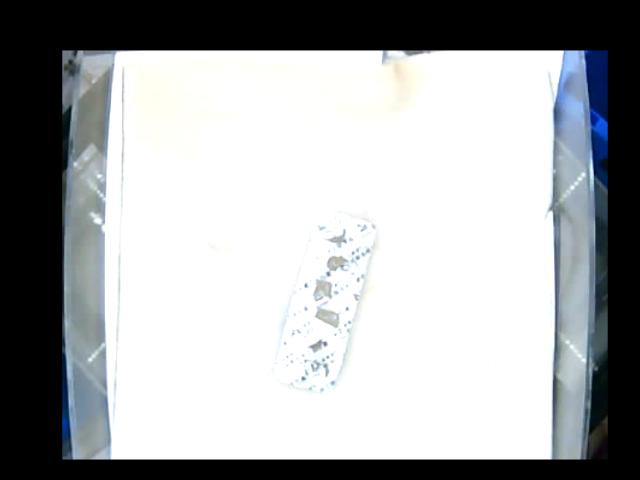Medicine: (275, 209, 377, 394)
